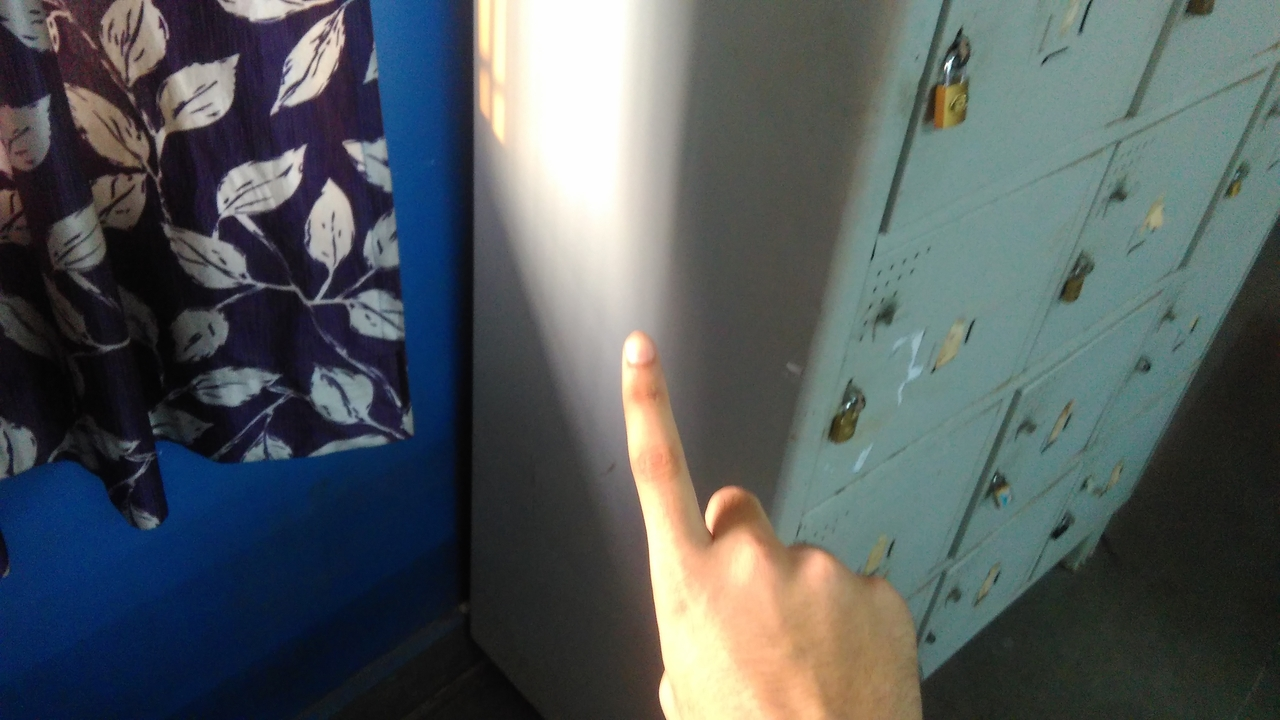fingertip: (616, 322, 666, 388), (936, 20, 980, 64)
